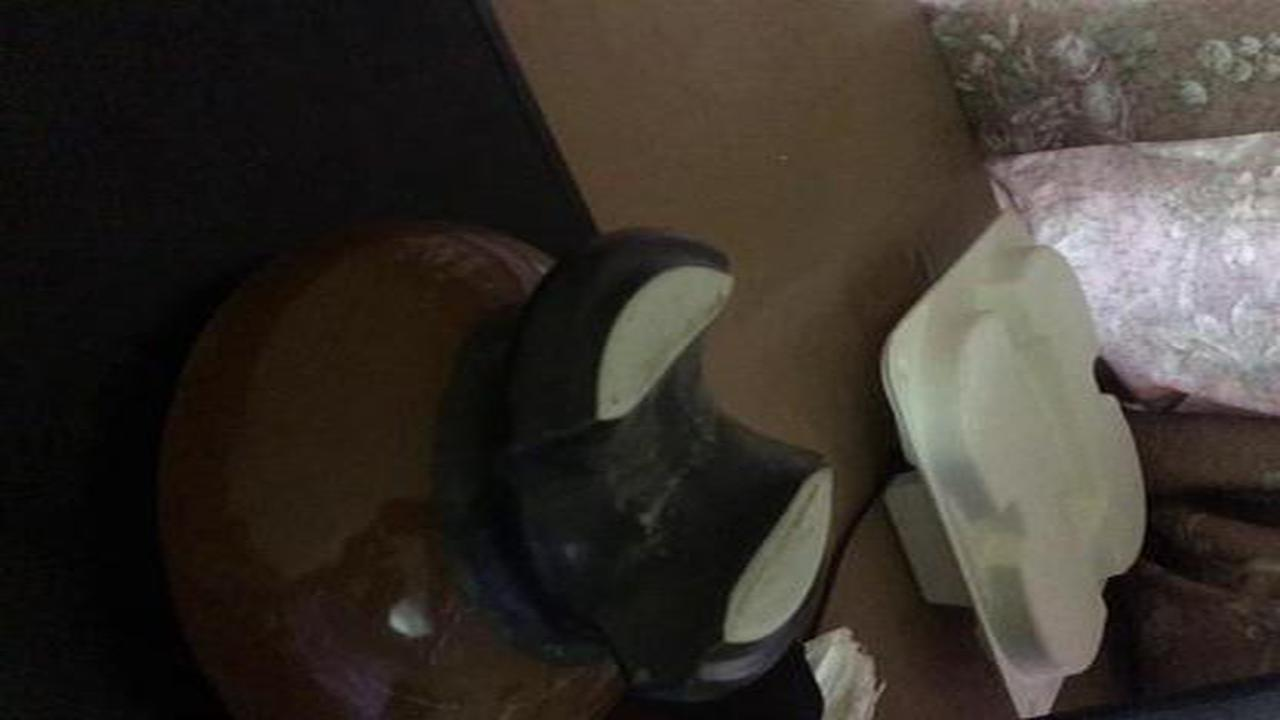insulator_pin: (123, 206, 865, 720)
